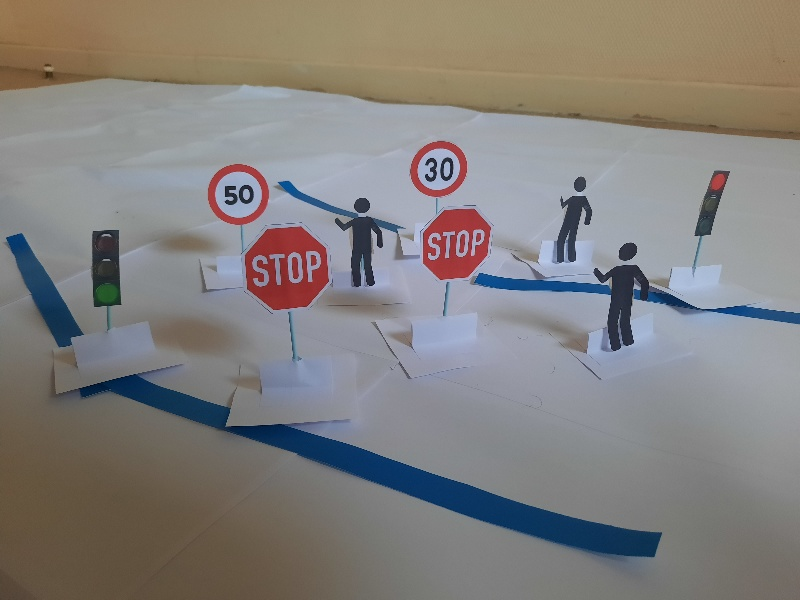Green: (88, 227, 125, 308)
Limit 30: (407, 138, 468, 199)
Limit 50: (207, 163, 271, 226)
Person: (591, 240, 652, 354), (332, 199, 387, 290), (550, 175, 595, 263)
Red: (694, 168, 731, 238)
Stop: (240, 221, 337, 316), (418, 202, 496, 280)
